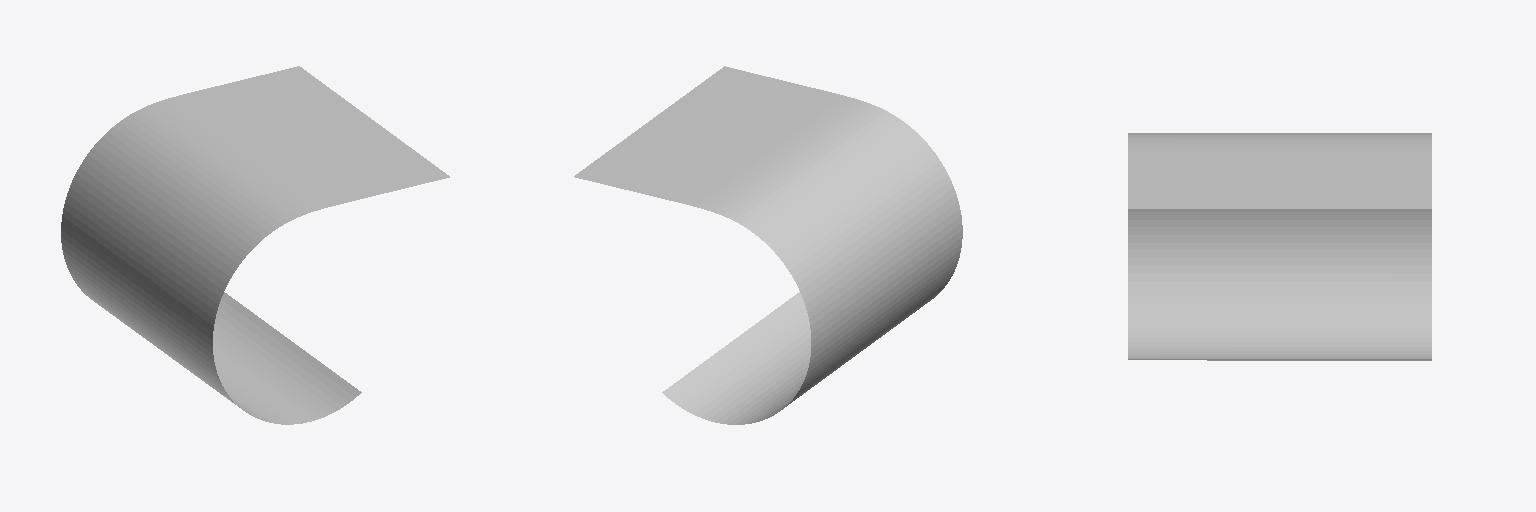
Rendered from CurvePaper_000033.obj.
3 views of the same model, side by side, from view 1: azimuth 30°, elevation 25°; view 2: azimuth 150°, elevation 25°; view 3: azimuth 270°, elevation 25° (orthographic).
Parts seen in each view (by area): view 1: Plane; view 2: Plane; view 3: Plane.
Boxes of the visible parts, <box> form: Plane: <box>61,66,449,424</box>; Plane: <box>574,66,962,424</box>; Plane: <box>1128,133,1431,360</box>.
Bounding box in the file's own units: 2.05 × 1.74 × 2.26.